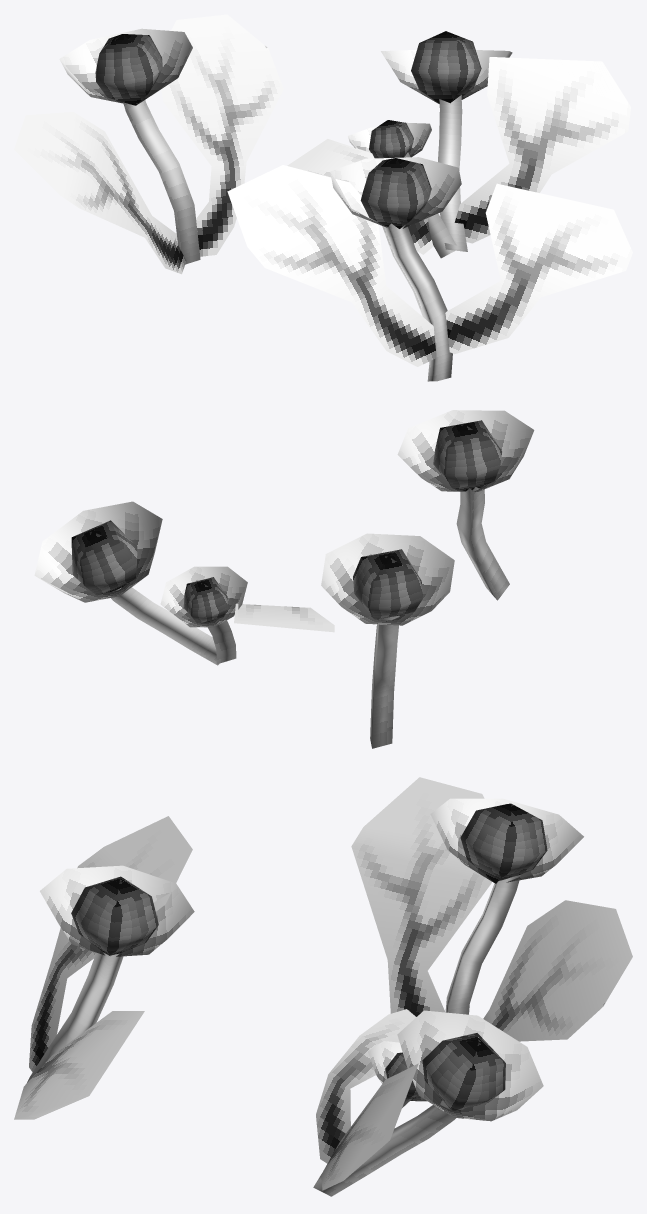
File: PltFlwCosmos0.glb
3 views of the same model, one above another, from view 1: azimuth 30°, elevation 25°; view 2: azimuth 150°, elevation 25°; view 3: azimuth 270°, elevation 25° (orthographic). The views are drawn at different scales.
Visible parts, largest first — view 1: PltFlwCosmos0Test_pCylinder25_1__mCosmosBody, Bud3__mCosmosFlower; view 2: PltFlwCosmos0Test_pCylinder25_1__mCosmosBody, Bud3__mCosmosFlower; view 3: PltFlwCosmos0Test_pCylinder25_1__mCosmosBody, Bud3__mCosmosFlower.
Boxes of the visible parts, x1,y1,x2,y2 form: PltFlwCosmos0Test_pCylinder25_1__mCosmosBody: (14,14,632,381); Bud3__mCosmosFlower: (95,31,481,228); PltFlwCosmos0Test_pCylinder25_1__mCosmosBody: (34,410,534,748); Bud3__mCosmosFlower: (71,420,501,623); PltFlwCosmos0Test_pCylinder25_1__mCosmosBody: (14,777,632,1196); Bud3__mCosmosFlower: (71,803,547,1110).
Size of the model in its own units: 9.57 by 3.58 by 7.83.
2 materials, 2 textured.
